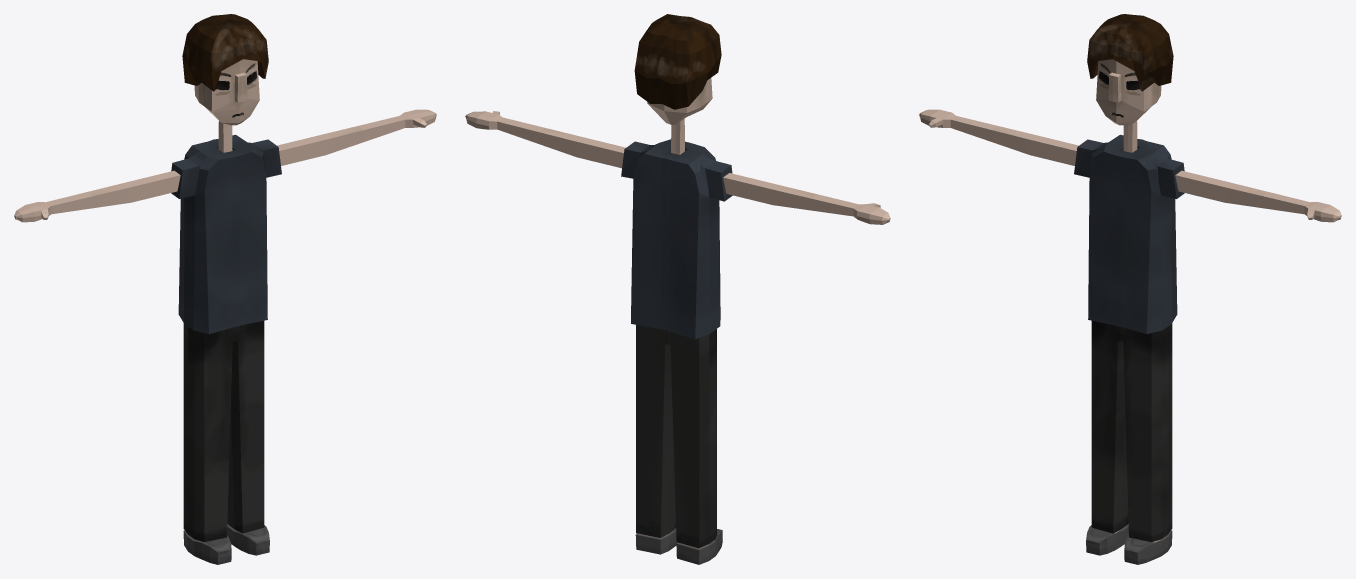
Rendered from Dad Shteevehegary Model.fbx.
The picture shows the model from 3 angles, left to right: view 1: azimuth 30°, elevation 25°; view 2: azimuth 150°, elevation 25°; view 3: azimuth 330°, elevation 25°; orthographic projection.
Parts seen in each view (by area): view 1: Cube.004, Cube.003, Cube.001, Cube.002, Cube.005; view 2: Cube.003, Cube.004, Cube.001, Cube.002, Cube.005; view 3: Cube.004, Cube.003, Cube.001, Cube.002, Cube.005.
Part boxes in pixels (x1,y1,x2,y2): Cube.004: [183, 320, 264, 542]; Cube.003: [171, 134, 281, 333]; Cube.001: [14, 59, 436, 542]; Cube.002: [182, 14, 268, 91]; Cube.005: [183, 524, 269, 564]; Cube.003: [621, 139, 732, 339]; Cube.004: [636, 325, 716, 548]; Cube.001: [465, 78, 890, 548]; Cube.002: [634, 14, 721, 109]; Cube.005: [635, 529, 722, 564]; Cube.004: [1091, 320, 1172, 542]; Cube.003: [1074, 134, 1184, 333]; Cube.001: [919, 59, 1341, 542]; Cube.002: [1087, 14, 1173, 91]; Cube.005: [1086, 524, 1172, 564].
Size of the model in its own units: 764 by 908 by 117.
